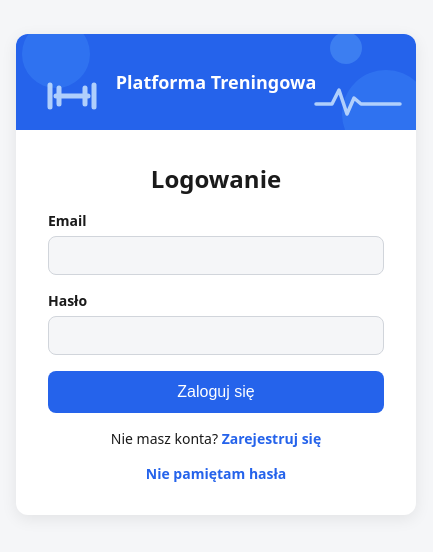
Test: LoginPage › pusty formularz nie wysyła żądania i pokazuje komunikat
The width and height of the screenshot is (433, 552).
Click the button "Zaloguj się" at (216, 392), box [48,370,384,412]
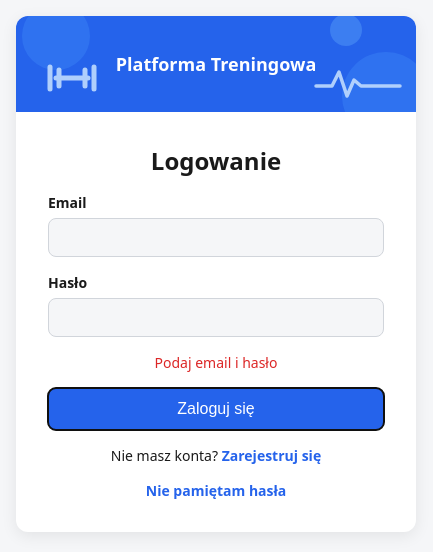
Expected: the text "Podaj email i hasło" is shown, [154,353,277,372]
